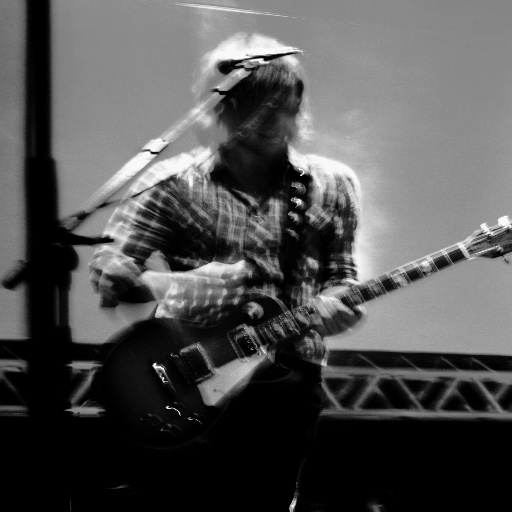hand: (303, 286, 369, 336), (186, 259, 250, 302)
